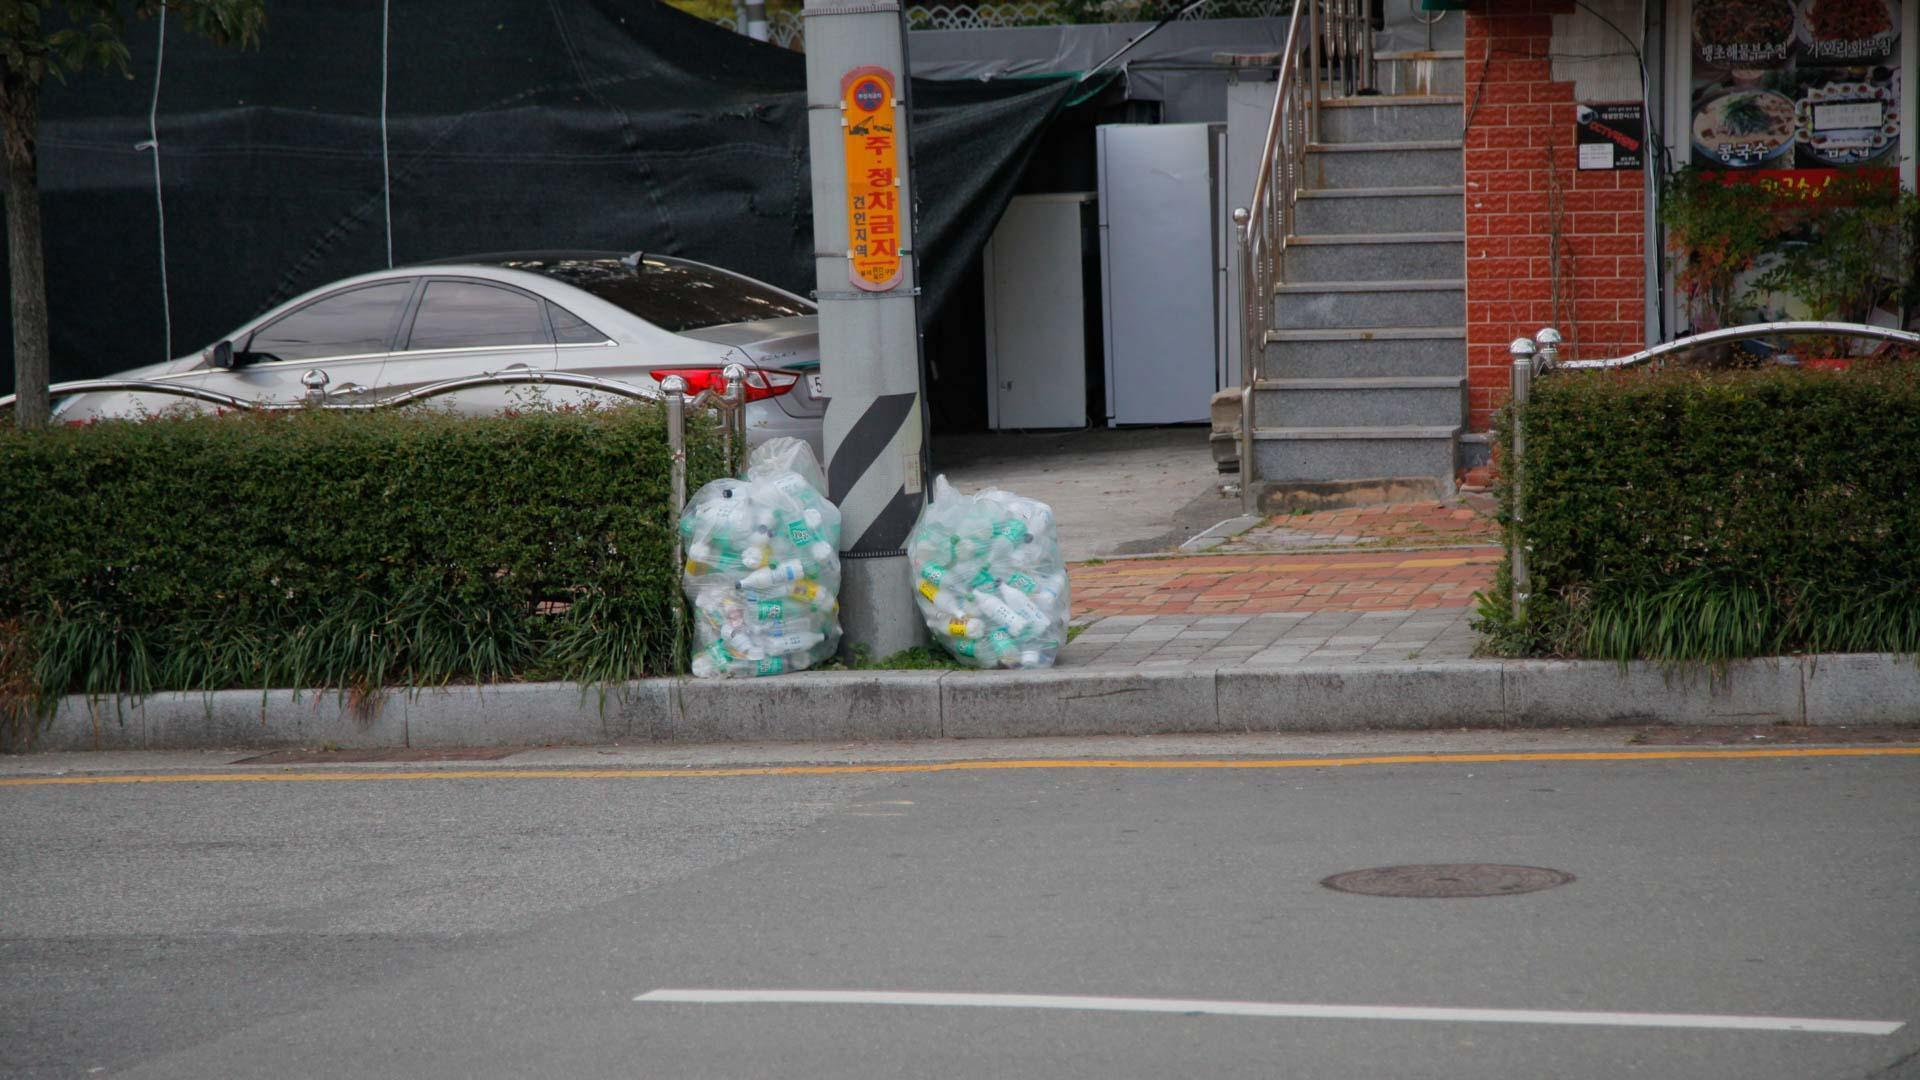white_bag: (659, 436, 860, 688), (899, 469, 1089, 680)
